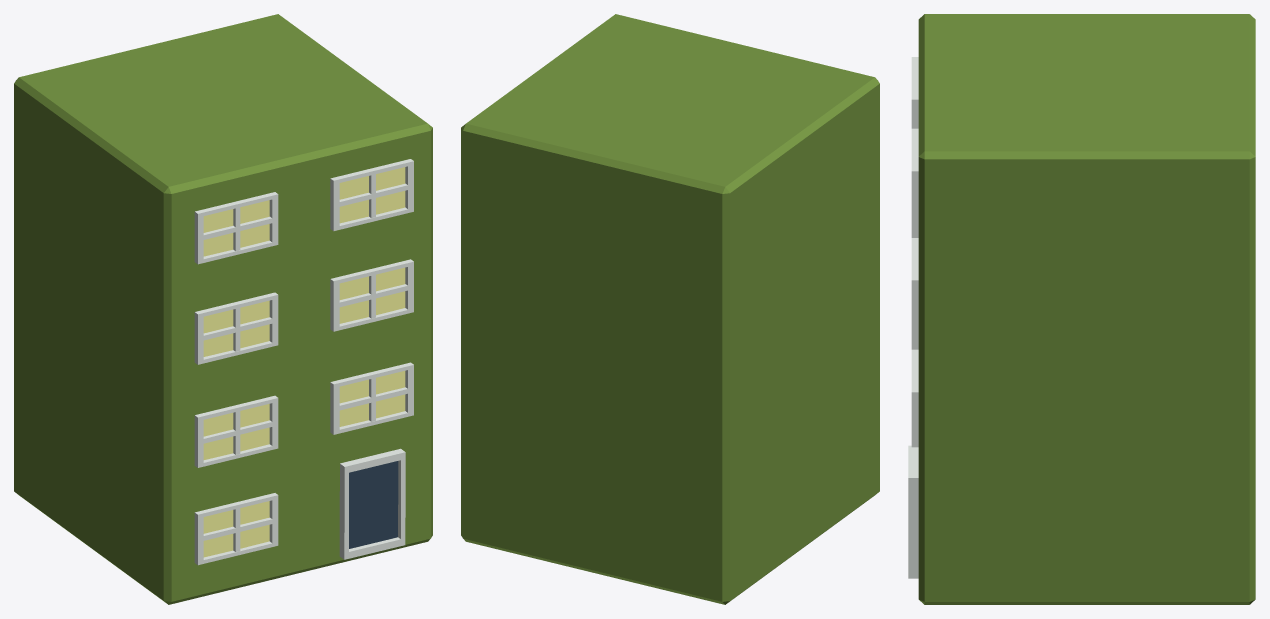
File: building3.fbx
3 views of the same model, side by side, from view 1: azimuth 30°, elevation 25°; view 2: azimuth 150°, elevation 25°; view 3: azimuth 270°, elevation 25° (orthographic). The views are drawn at different scales.
Visible parts, largest first — view 1: Cube, Cube.005, Cube.002, Cube.003, Cube.007, Cube.001, Cube.006, Cube.008, Cube.004; view 2: Cube; view 3: Cube, Cube.005, Cube.004, Cube.008, Cube.006, Cube.007.
Boxes of the visible parts, x1,y1,x2,y2 form: Cube: (14, 14, 432, 604); Cube.005: (339, 448, 405, 559); Cube.002: (194, 493, 278, 565); Cube.003: (194, 292, 278, 364); Cube.007: (194, 192, 278, 264); Cube.001: (194, 395, 278, 467); Cube.006: (330, 259, 413, 331); Cube.008: (330, 362, 413, 434); Cube.004: (330, 159, 413, 231); Cube: (461, 14, 879, 604); Cube: (918, 14, 1255, 604); Cube.005: (908, 445, 918, 578); Cube.004: (911, 128, 918, 226); Cube.008: (911, 349, 918, 447); Cube.006: (911, 238, 918, 335); Cube.007: (911, 57, 918, 128).
Bounding box in the file's own units: 828 × 1229 × 853.
